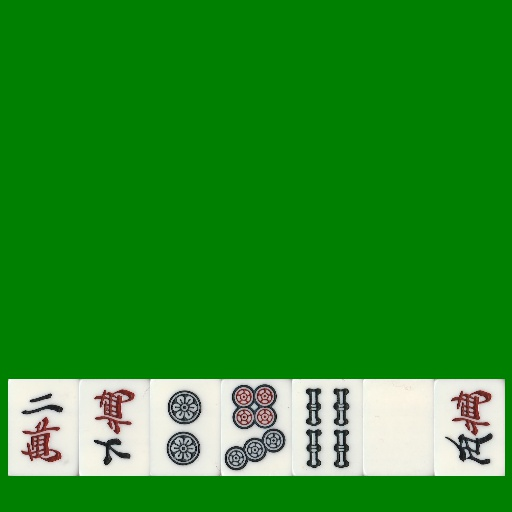2m: (8, 379, 79, 476)
2p: (150, 379, 221, 476)
4s: (292, 379, 363, 476)
5m: (434, 379, 505, 476)
7m: (79, 379, 150, 476)
7p: (221, 379, 292, 476)
white: (363, 379, 434, 476)
